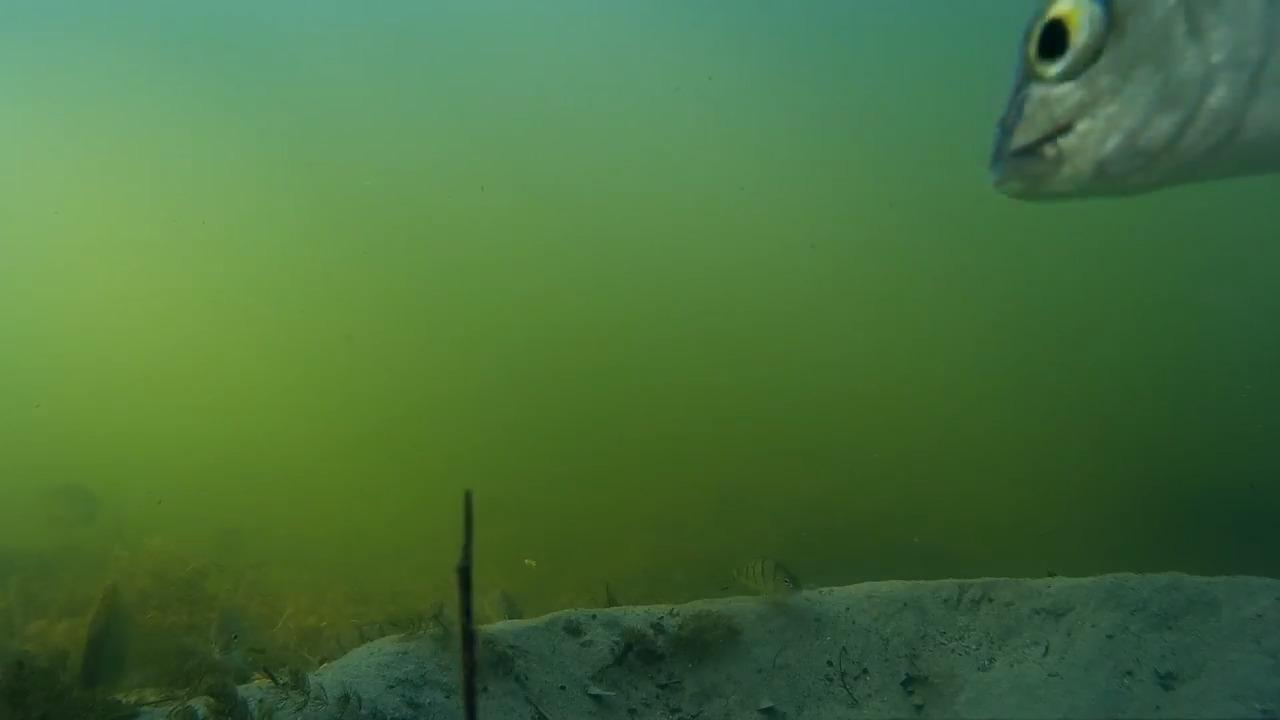Tilapia: (986, 0, 1280, 212), (59, 568, 189, 696), (716, 524, 823, 612), (207, 584, 293, 686), (466, 576, 535, 640)
